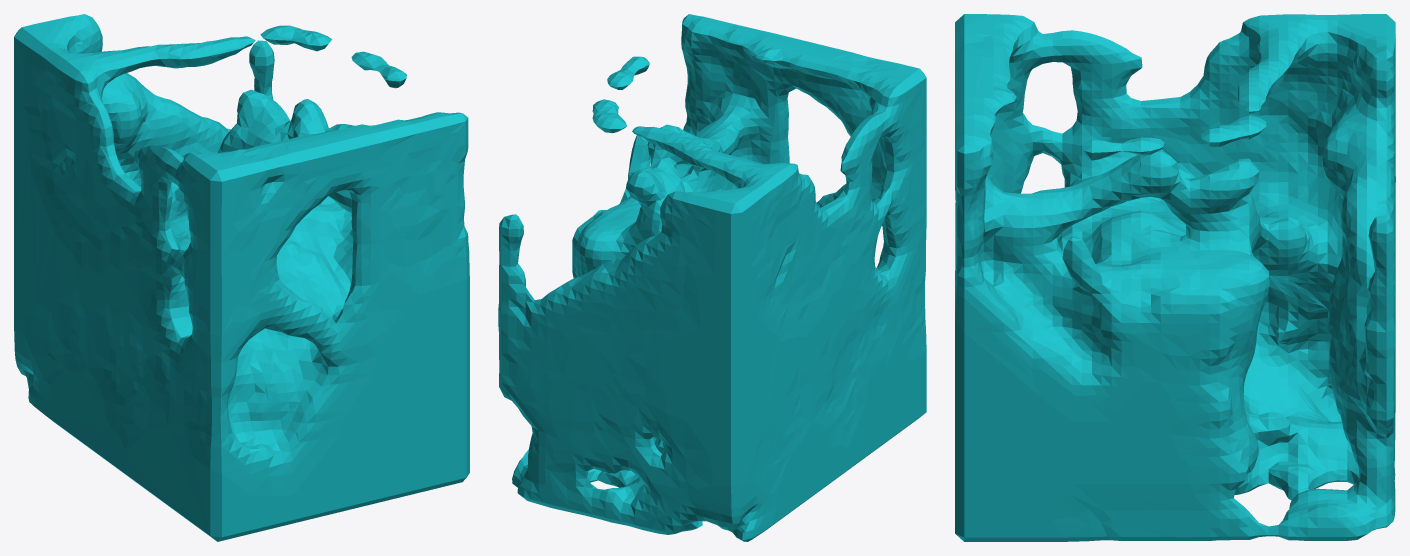
3 views of the same model, side by side, from view 1: azimuth 30°, elevation 25°; view 2: azimuth 150°, elevation 25°; view 3: azimuth 270°, elevation 25° (orthographic). The views are drawn at different scales.
Visible parts, largest first — view 1: Liquid_Domain; view 2: Liquid_Domain; view 3: Liquid_Domain.
Boxes of the visible parts, left/top/right/bottom form: Liquid_Domain: left=14, top=14, right=469, bottom=541; Liquid_Domain: left=498, top=14, right=926, bottom=541; Liquid_Domain: left=955, top=14, right=1395, bottom=541.
Bounding box in the file's own units: 79.13 × 108 × 108.
